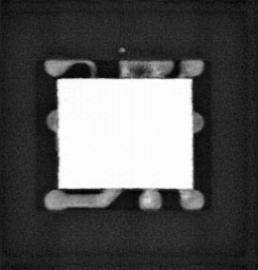DIE_INK: (116, 45, 127, 53)
